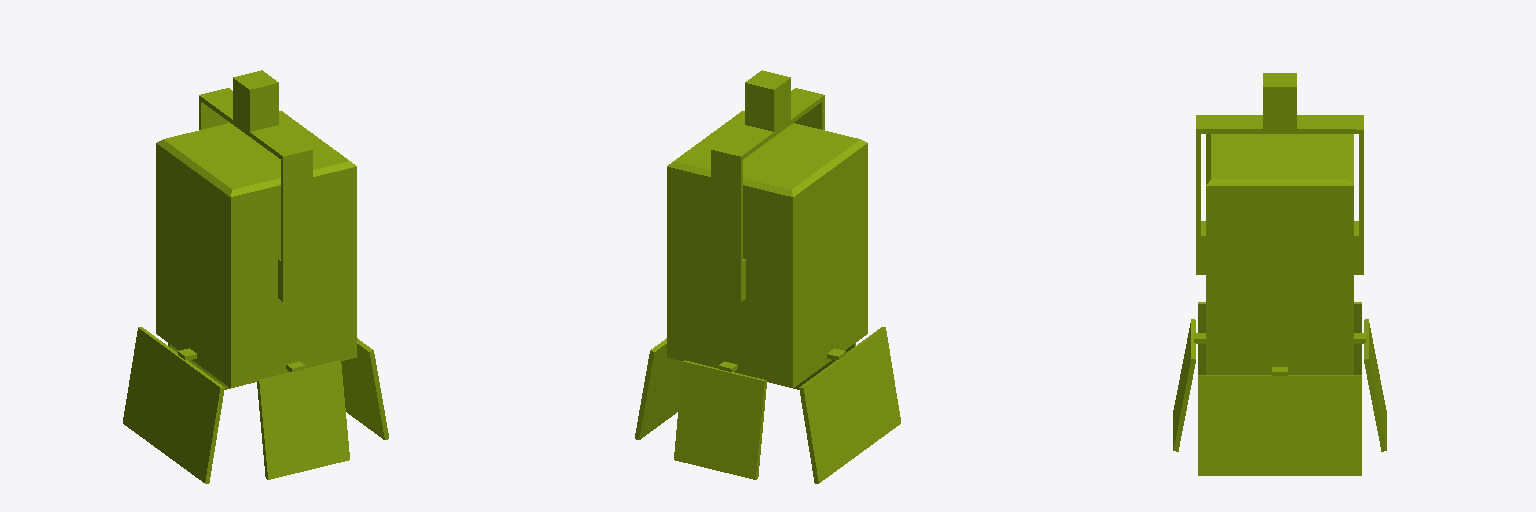
The model's file is studio_light_vol2.obj.
3 renders of one model, left to right at view 1: azimuth 30°, elevation 25°; view 2: azimuth 150°, elevation 25°; view 3: azimuth 270°, elevation 25°, orthographic.
Visible parts, largest first — view 1: studio_light; view 2: studio_light; view 3: studio_light.
Part boxes in pixels (x1,y1,x2,y2): studio_light: (123, 70, 388, 483); studio_light: (635, 70, 900, 483); studio_light: (1173, 73, 1386, 475).
Size of the model in its own units: 0.481 by 0.8766 by 0.4816.